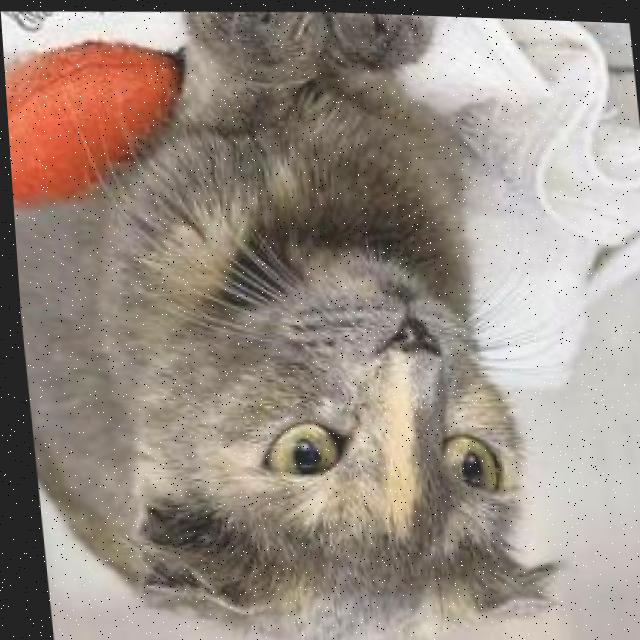Scottish Fold: (0, 0, 566, 640)
